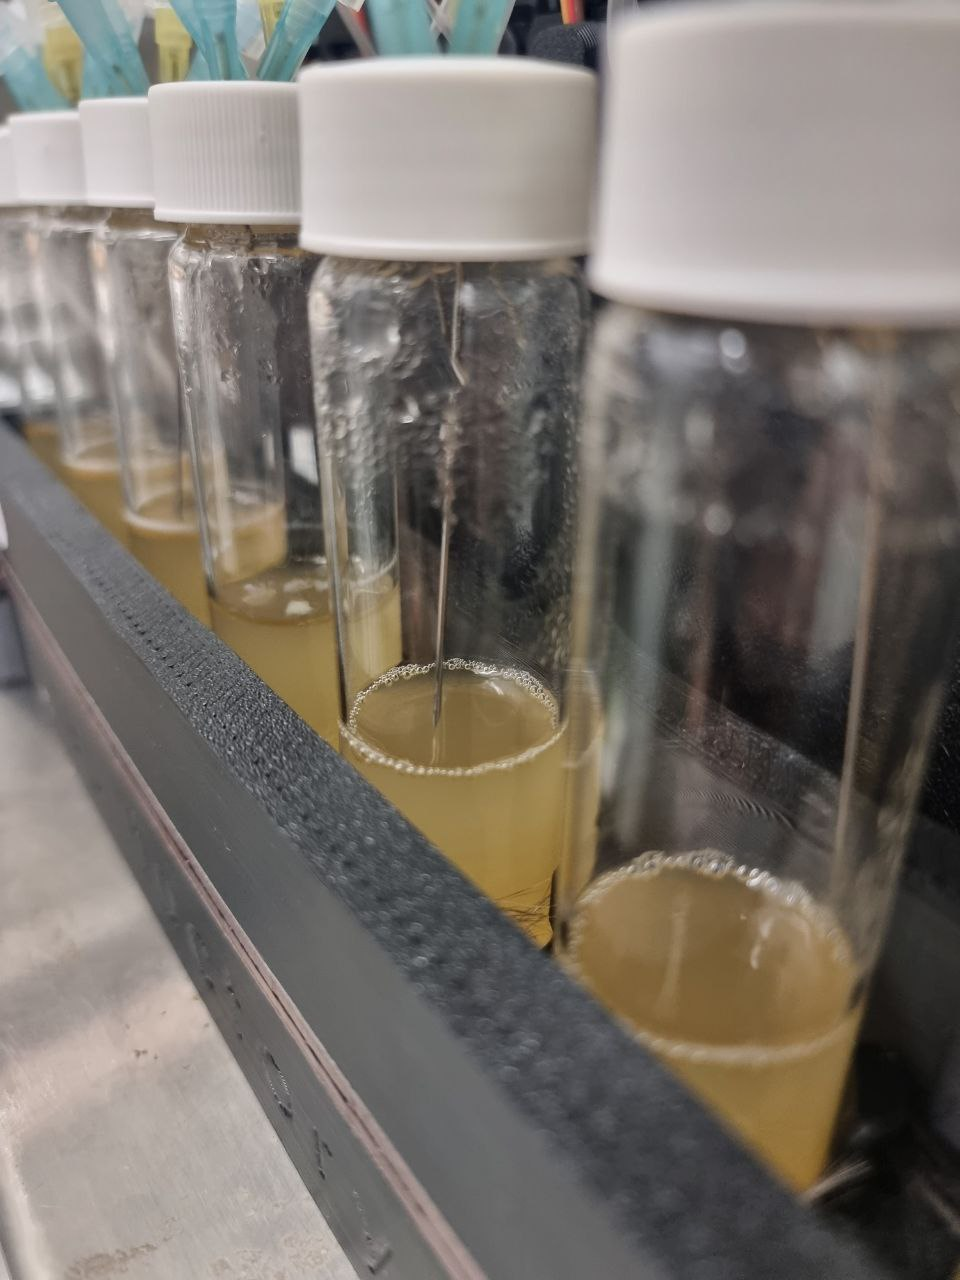vial: (556, 12, 960, 1196), (297, 59, 595, 946), (141, 80, 407, 756), (72, 100, 289, 628), (9, 112, 192, 543), (1, 121, 101, 464)
